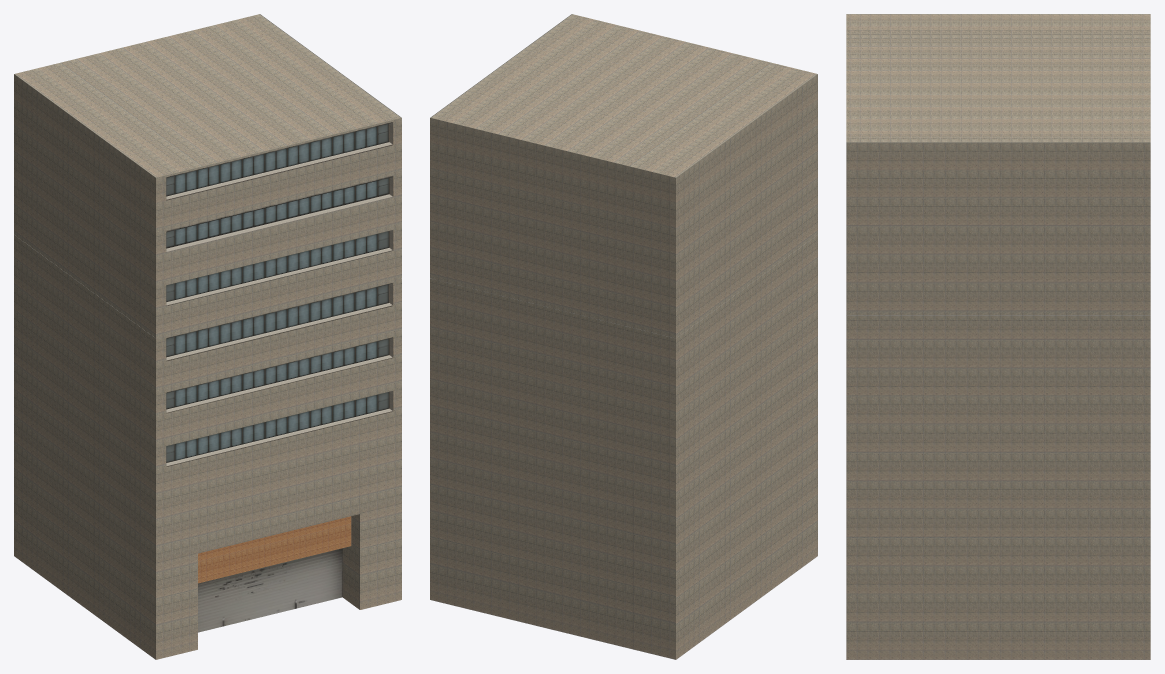
Rendered from bill3.fbx.
The picture shows the model from 3 angles, left to right: view 1: azimuth 30°, elevation 25°; view 2: azimuth 150°, elevation 25°; view 3: azimuth 270°, elevation 25°; orthographic projection. The views are drawn at different scales.
Parts seen in each view (by area): view 1: pCube3, pCube2, pCube1; view 2: pCube3, pCube2, pCube1; view 3: pCube3, pCube1, pCube2.
Part boxes in pixels (x1,y1,x2,y2): pCube3: [14, 14, 401, 338]; pCube2: [14, 235, 401, 498]; pCube1: [14, 395, 401, 659]; pCube3: [430, 14, 817, 338]; pCube2: [430, 235, 817, 498]; pCube1: [430, 395, 817, 659]; pCube3: [846, 14, 1150, 314]; pCube1: [846, 487, 1150, 659]; pCube2: [846, 315, 1150, 487].
Bounding box in the file's own units: 800 × 1499 × 799.
